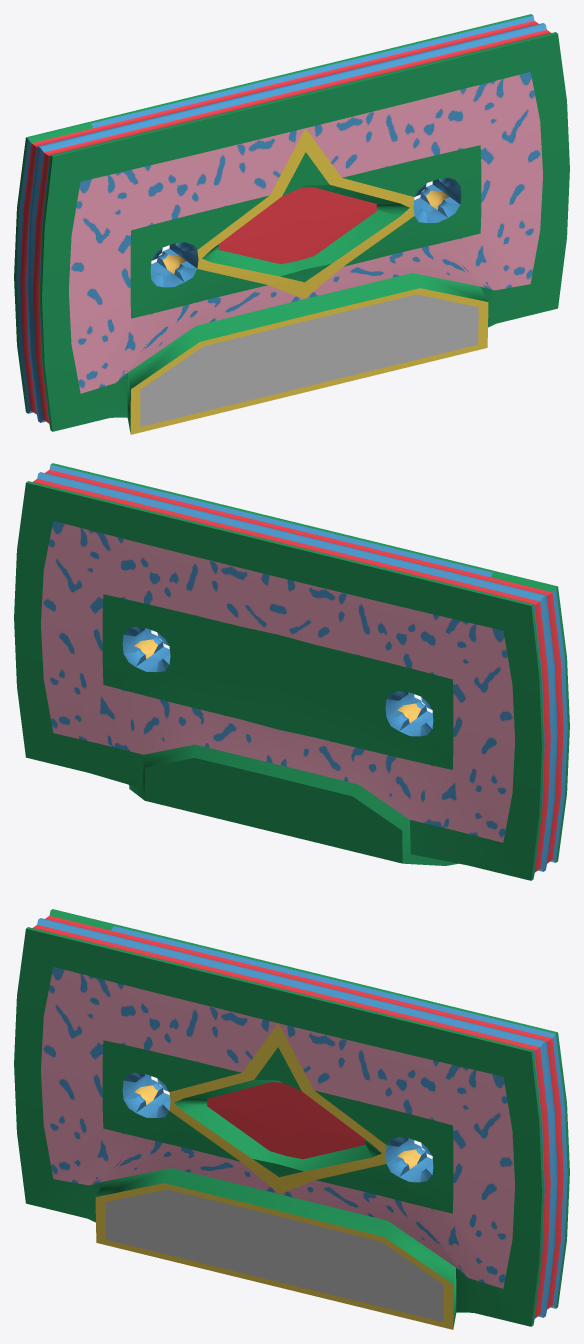
Rendered from M_cassette_01.fbx.
The picture shows the model from 3 angles, top to bottom: view 1: azimuth 30°, elevation 25°; view 2: azimuth 150°, elevation 25°; view 3: azimuth 330°, elevation 25°; orthographic projection.
Visible parts, largest first — view 1: Cube.020; view 2: Cube.020; view 3: Cube.020.
Part boxes in pixels (<box>): Cube.020: <box>14,14,569,434</box>; Cube.020: <box>14,463,569,880</box>; Cube.020: <box>14,909,569,1329</box>.
Bounding box in the file's own units: 24.15 × 12.82 × 2.89.
